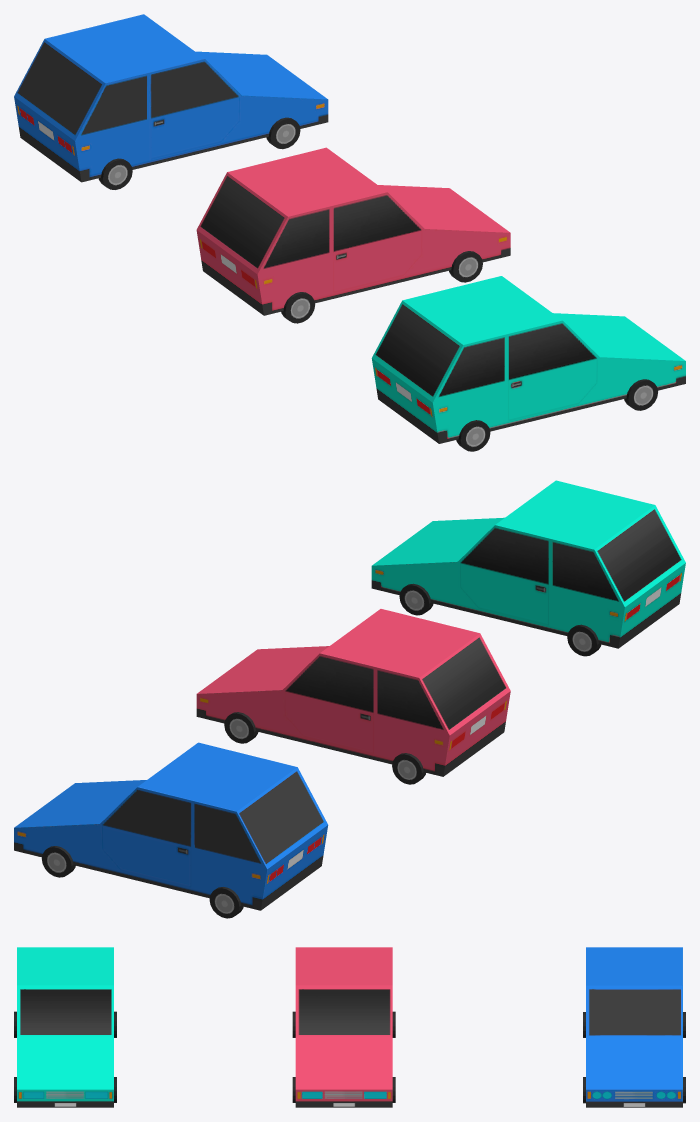
File: cars.glb
3 renders of one model, top to bottom at view 1: azimuth 30°, elevation 25°; view 2: azimuth 150°, elevation 25°; view 3: azimuth 270°, elevation 25°, orthographic. The views are drawn at different scales.
Visible parts, largest first — view 1: CAR_03, CAR_02, CAR_01; view 2: CAR_01, CAR_02, CAR_03; view 3: CAR_02, CAR_01, CAR_03.
Part boxes in pixels (x1=…): CAR_03: x1=14, y1=14, x2=328, y2=189; CAR_02: x1=196, y1=147, x2=510, y2=323; CAR_01: x1=371, y1=276, x2=685, y2=451; CAR_01: x1=371, y1=480, x2=685, y2=656; CAR_02: x1=196, y1=609, x2=510, y2=784; CAR_03: x1=14, y1=742, x2=328, y2=918; CAR_02: x1=292, y1=947, x2=395, y2=1107; CAR_01: x1=14, y1=947, x2=116, y2=1107; CAR_03: x1=583, y1=947, x2=685, y2=1107.
Bounding box in the file's own units: 78.51 × 31.94 × 227.
Materials: 3 (3 with a texture image).
